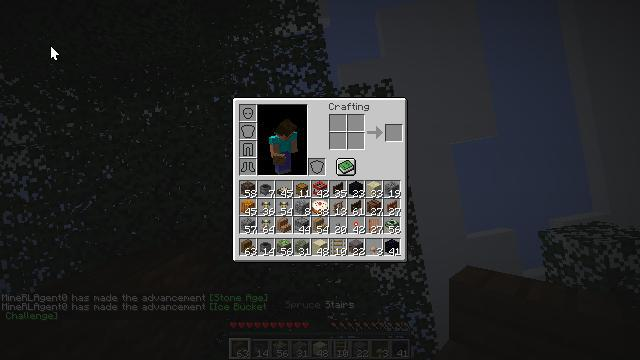cursor: (45, 50, 61, 60)
